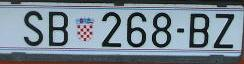-: (177, 27, 184, 33)
2: (101, 12, 121, 46)
6: (127, 12, 146, 48)
8: (152, 13, 171, 47)
B: (49, 12, 68, 46), (190, 13, 209, 47)
S: (23, 10, 43, 47)
Z: (216, 14, 234, 48)
